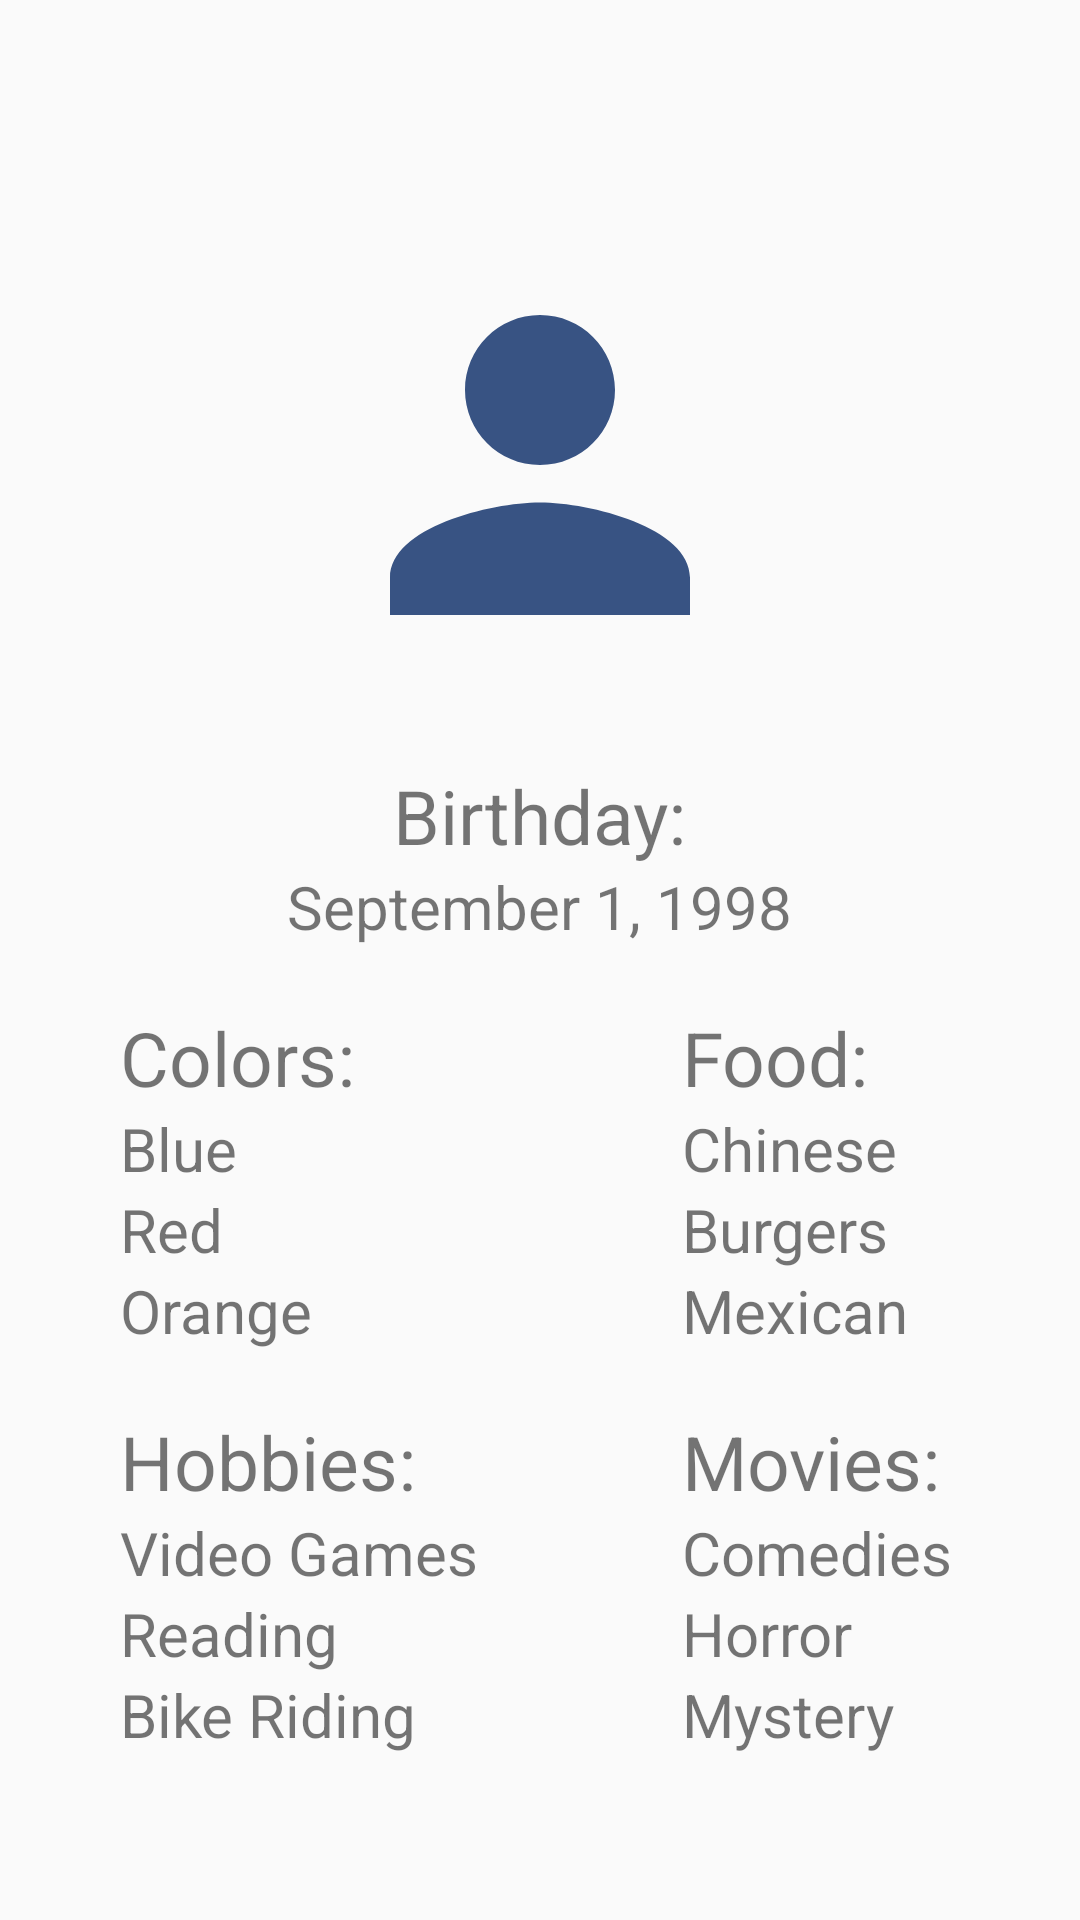

Screen size 1080 × 1920. Icon name, then its center in pixels as (x=x, y=y):
person: (x=540, y=465)
